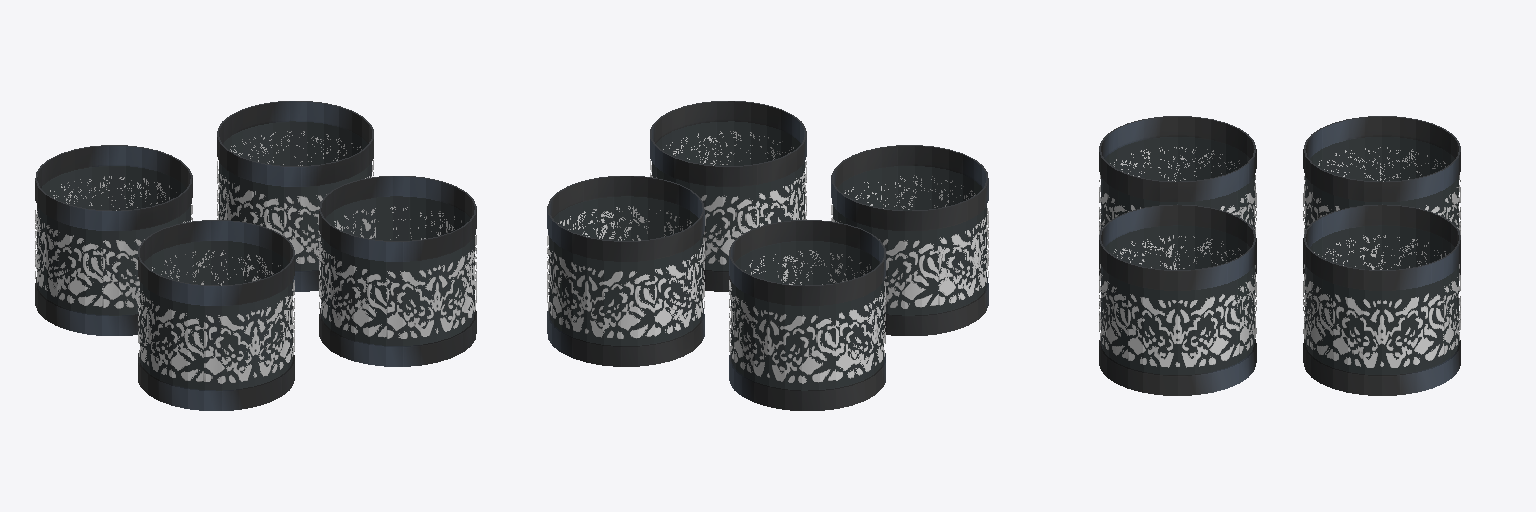
The picture shows the model from 3 angles: view 1: azimuth 30°, elevation 25°; view 2: azimuth 150°, elevation 25°; view 3: azimuth 270°, elevation 25°; orthographic projection.
Parts seen in each view (by area): view 1: lightmesh_17362, solid_003, glass_001; view 2: lightmesh_17362, solid_003, glass_001; view 3: lightmesh_17362, solid_003, glass_001.
Part boxes in pixels (left/top/right/bottom): lightmesh_17362: left=37, top=121, right=474, bottom=390; solid_003: left=35, top=101, right=476, bottom=410; glass_001: left=35, top=131, right=476, bottom=383; lightmesh_17362: left=549, top=121, right=986, bottom=390; solid_003: left=547, top=101, right=988, bottom=410; glass_001: left=547, top=131, right=988, bottom=383; lightmesh_17362: left=1101, top=137, right=1458, bottom=374; solid_003: left=1099, top=116, right=1460, bottom=395; glass_001: left=1099, top=147, right=1460, bottom=367.
Size of the model in its own units: 2 by 0.7508 by 1.97.
1 materials, 1 textured.